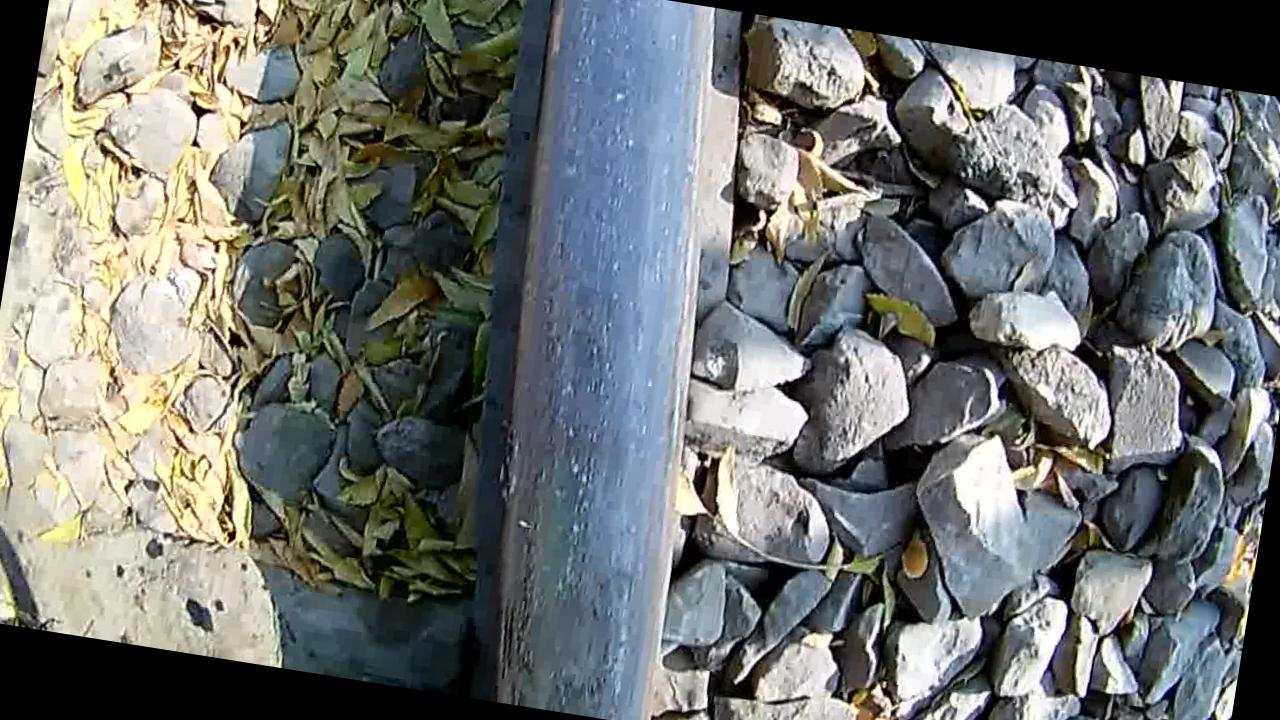bolt_missing: (472, 503, 679, 720)
